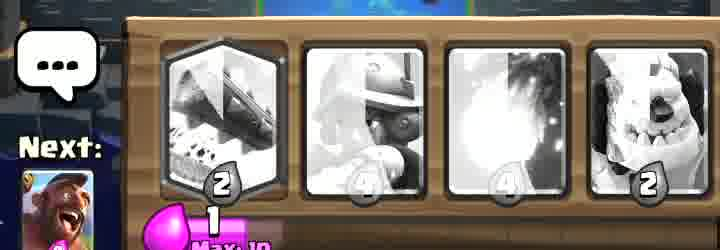hog-rider: (22, 171, 93, 250)
ice-golem: (590, 52, 702, 198)
